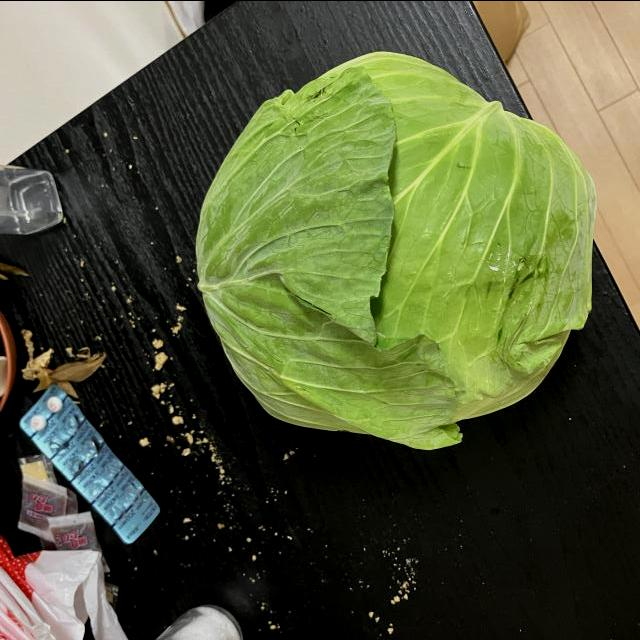cabbage: (195, 48, 603, 458)
